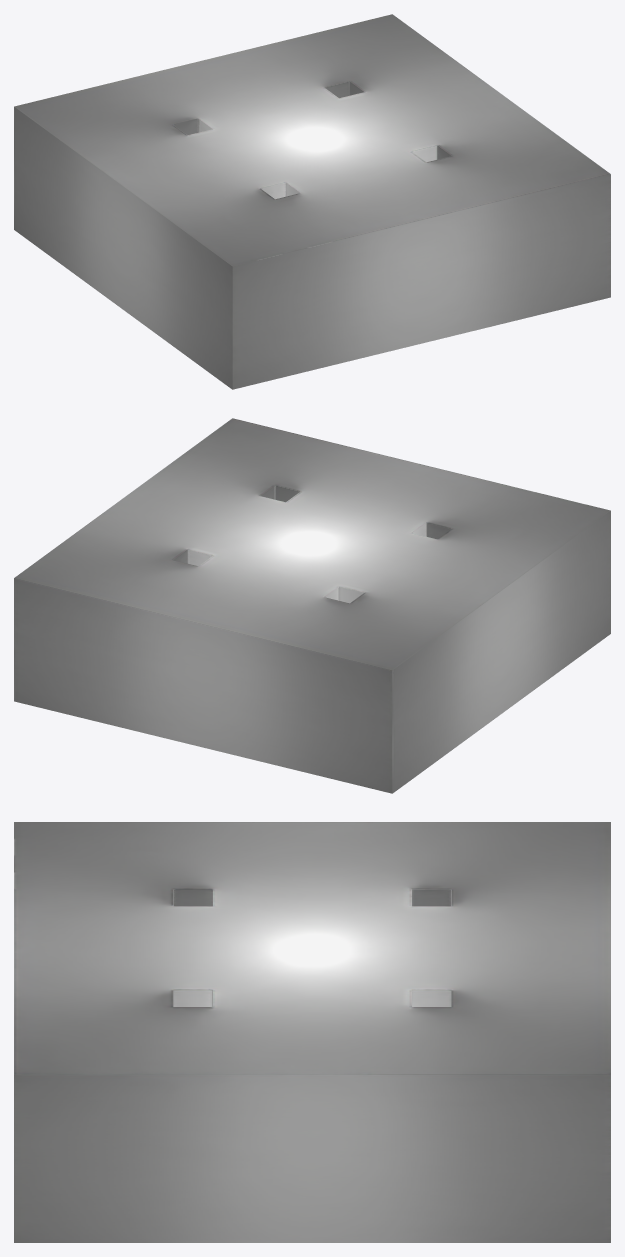
File: room02.glb
3 renders of one model, top to bottom at view 1: azimuth 30°, elevation 25°; view 2: azimuth 150°, elevation 25°; view 3: azimuth 270°, elevation 25°, orthographic. The views are drawn at different scales.
Visible parts, largest first — view 1: Cube; view 2: Cube; view 3: Cube.
Boxes of the visible parts, x1,y1,x2,y2 form: Cube: [14, 14, 610, 389]; Cube: [14, 418, 610, 793]; Cube: [14, 822, 610, 1242].
Size of the model in its own units: 9.05 by 2.82 by 9.05.
1 material, 1 textured.
